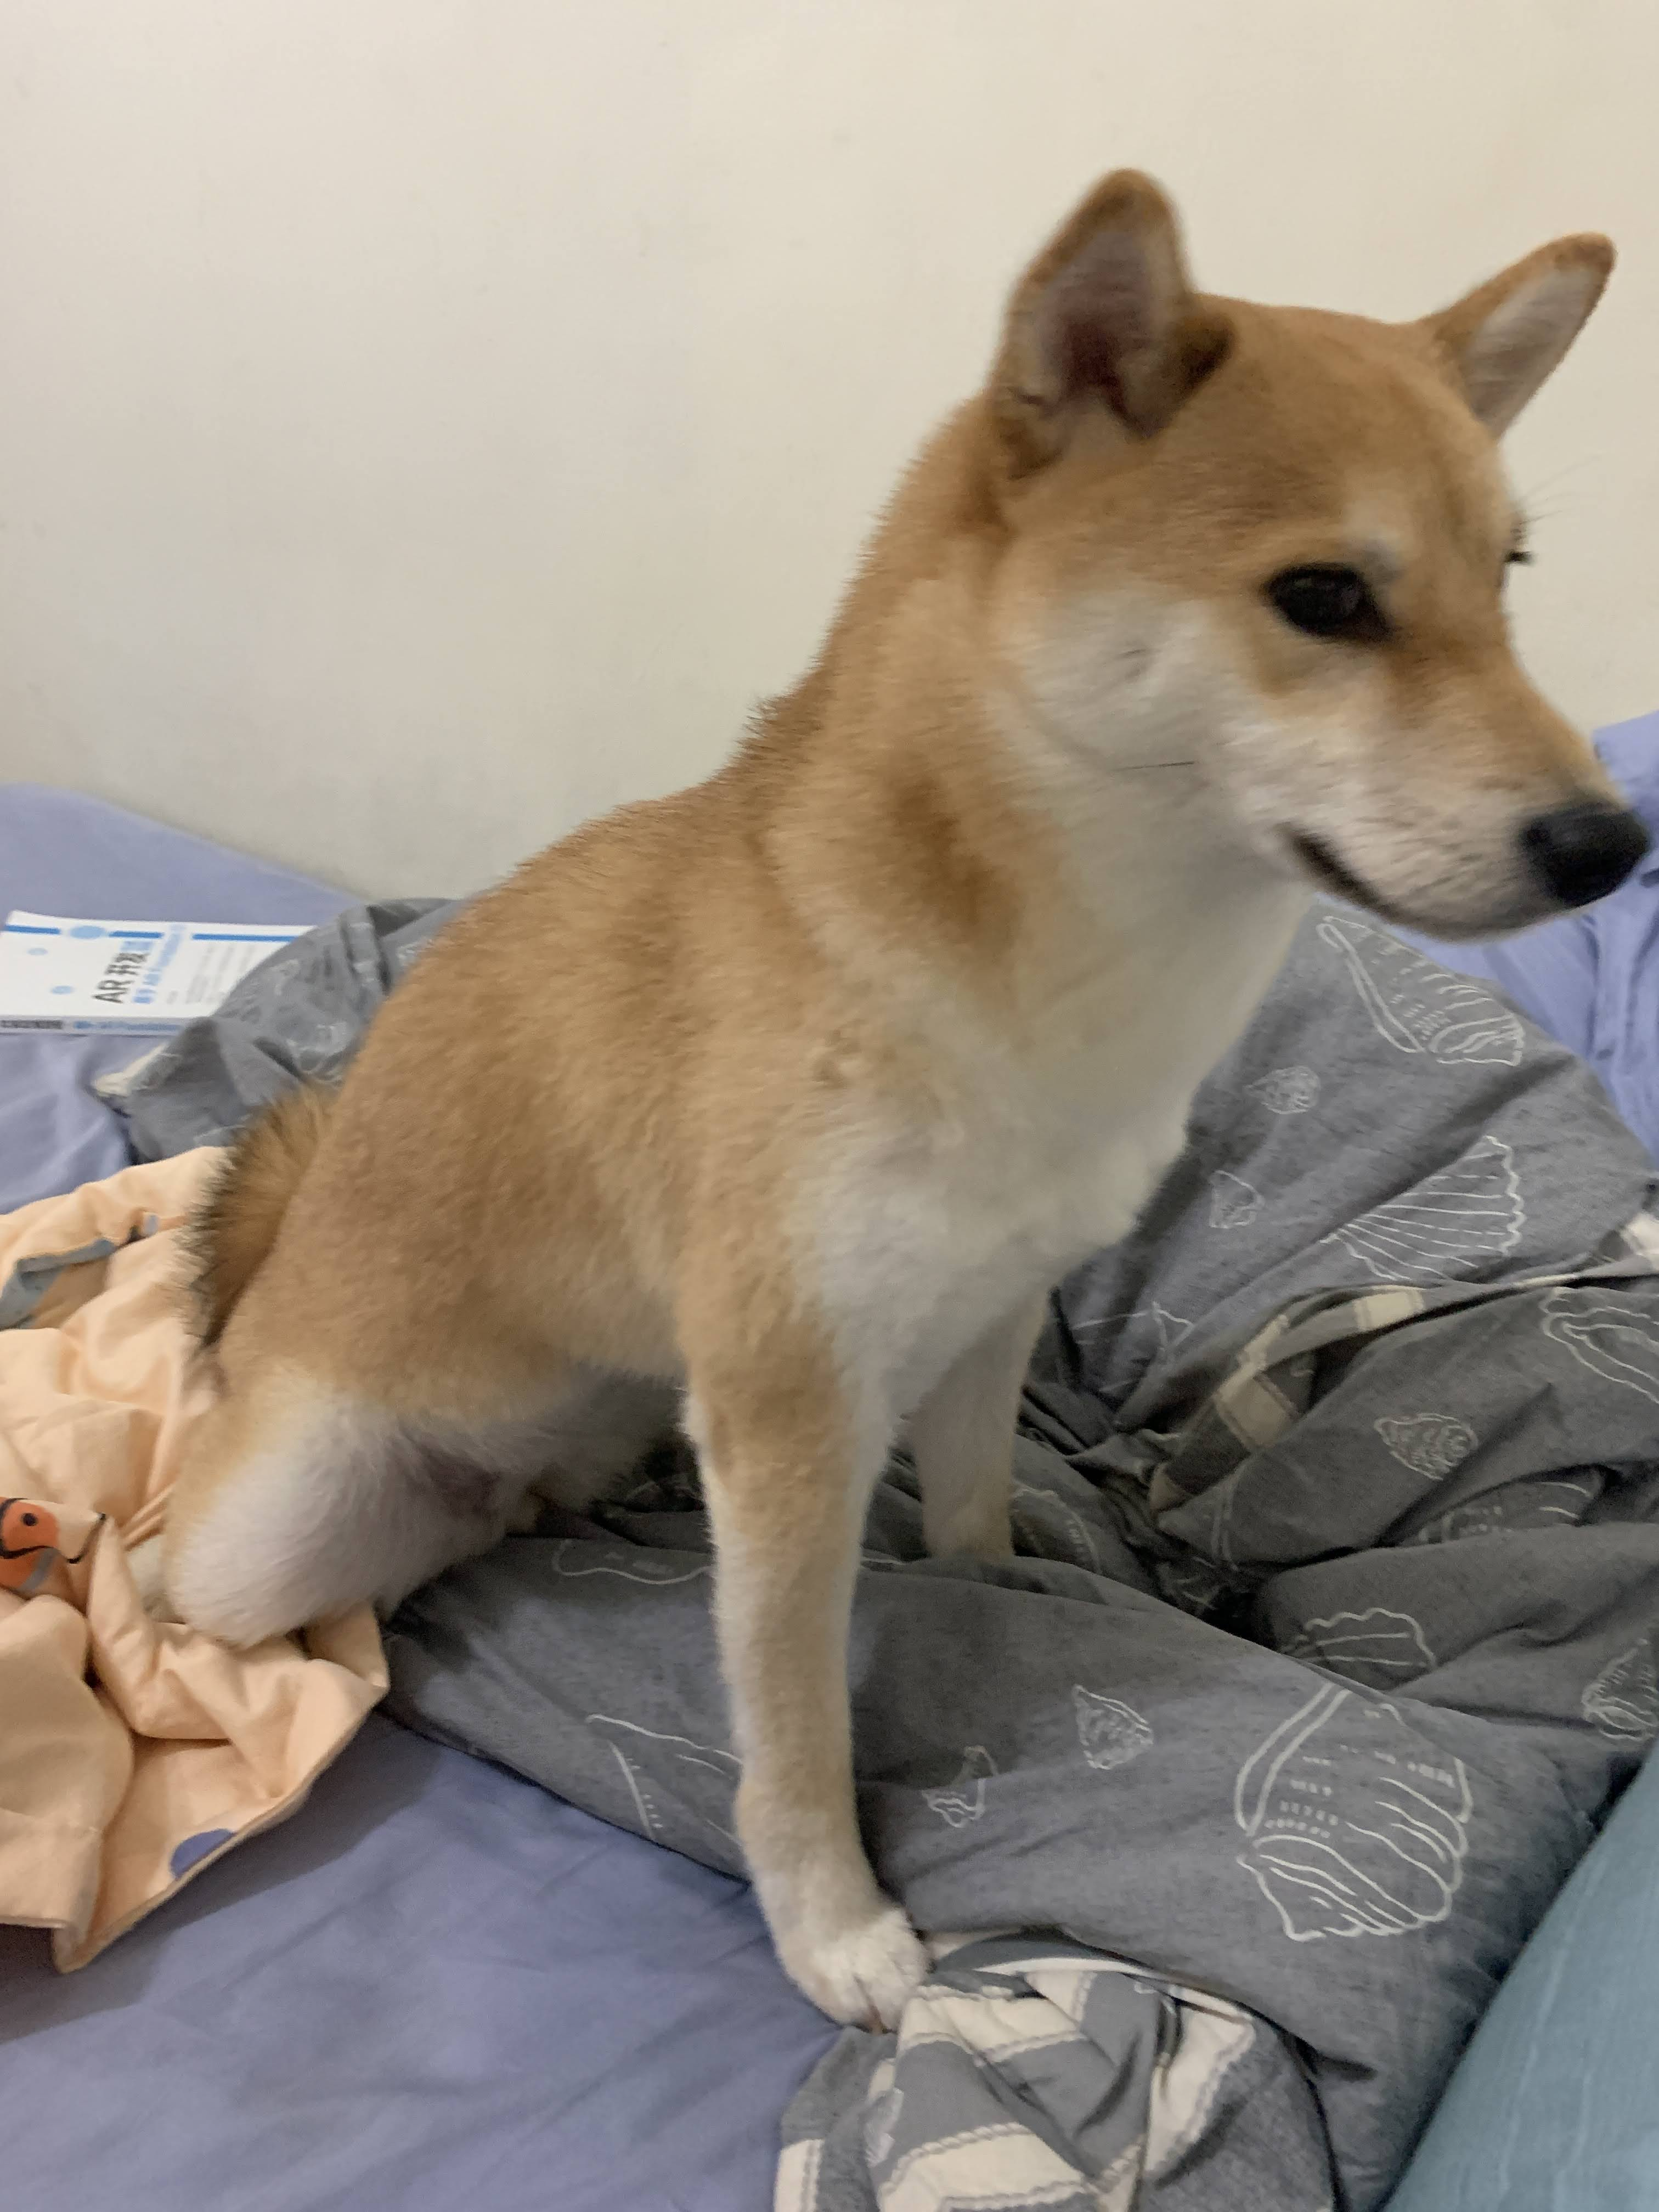Sit down: (115, 164, 1659, 2031)
